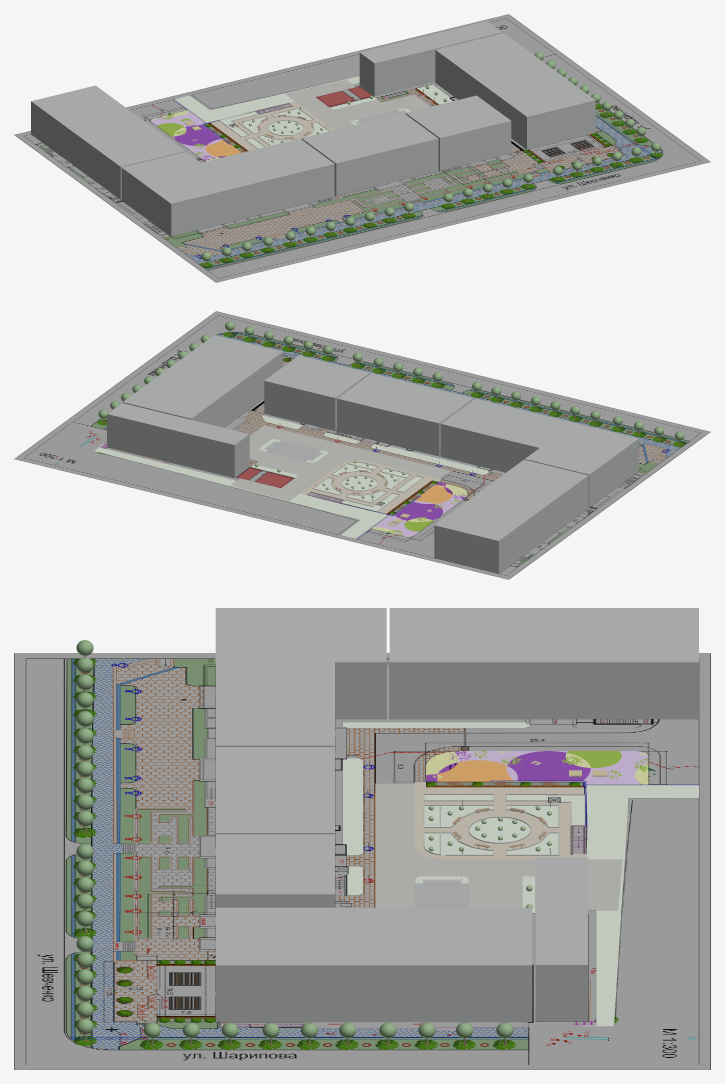
File: palladium_reconstruction_04.glb
The picture shows the model from 3 angles, top to bottom: view 1: azimuth 30°, elevation 25°; view 2: azimuth 150°, elevation 25°; view 3: azimuth 270°, elevation 25°; orthographic projection. The views are drawn at different scales.
Visible parts, largest first — view 1: REFERENCE_PDF_NOT_GEOMETRY, BUILDING_02_01_ENVELOPE_HEIGHT_8M_CONDITIONAL, BUILDING_06_01_ENVELOPE_HEIGHT_8M_CONDITIONAL, BUILDING_01_01_ENVELOPE_HEIGHT_8M_CONDITIONAL, BUILDING_03_01_ENVELOPE_HEIGHT_8M_CONDITIONAL, BUILDING_04_01_ENVELOPE_HEIGHT_8M_CONDITIONAL, BUILDING_05_01_ENVELOPE_HEIGHT_8M_CONDITIONAL, PDF_FILL_GREEN_FILL_MATERIAL_UNCONFIRMED, COURTYARD_PARTIAL_SURFACE_01_INFERRED_SEAM_CONDITIONAL, CENTRAL_PAVING_PART_01_CONDITIONAL, PDF_FILL_PLAY_LILAC_MATERIAL_UNCONFIRMED, PDF_FILL_PLAY_PURPLE_MATERIAL_UNCONFIRMED; view 2: REFERENCE_PDF_NOT_GEOMETRY, BUILDING_02_01_ENVELOPE_HEIGHT_8M_CONDITIONAL, BUILDING_01_01_ENVELOPE_HEIGHT_8M_CONDITIONAL, BUILDING_06_01_ENVELOPE_HEIGHT_8M_CONDITIONAL, BUILDING_03_01_ENVELOPE_HEIGHT_8M_CONDITIONAL, BUILDING_05_01_ENVELOPE_HEIGHT_8M_CONDITIONAL, PDF_FILL_GREEN_FILL_MATERIAL_UNCONFIRMED, COURTYARD_PARTIAL_SURFACE_01_INFERRED_SEAM_CONDITIONAL, BUILDING_04_01_ENVELOPE_HEIGHT_8M_CONDITIONAL, CENTRAL_PAVING_PART_01_CONDITIONAL, PDF_FILL_PLAY_PURPLE_MATERIAL_UNCONFIRMED, PDF_FILL_PLAY_LILAC_MATERIAL_UNCONFIRMED (+2 smaller); view 3: REFERENCE_PDF_NOT_GEOMETRY, BUILDING_06_01_ENVELOPE_HEIGHT_8M_CONDITIONAL, BUILDING_01_01_ENVELOPE_HEIGHT_8M_CONDITIONAL, BUILDING_02_01_ENVELOPE_HEIGHT_8M_CONDITIONAL, PDF_FILL_GREEN_FILL_MATERIAL_UNCONFIRMED, COURTYARD_PARTIAL_SURFACE_01_INFERRED_SEAM_CONDITIONAL, BUILDING_03_01_ENVELOPE_HEIGHT_8M_CONDITIONAL, BUILDING_04_01_ENVELOPE_HEIGHT_8M_CONDITIONAL, BUILDING_05_01_ENVELOPE_HEIGHT_8M_CONDITIONAL, CENTRAL_PAVING_PART_01_CONDITIONAL, PDF_FILL_PLAY_LILAC_MATERIAL_UNCONFIRMED, PDF_FILL_PLAY_PURPLE_MATERIAL_UNCONFIRMED (+4 smaller).
Boxes of the visible parts, box(x1,y1,x2,y2) form: REFERENCE_PDF_NOT_GEOMETRY: box(14, 14, 710, 282); BUILDING_02_01_ENVELOPE_HEIGHT_8M_CONDITIONAL: box(121, 138, 334, 236); BUILDING_06_01_ENVELOPE_HEIGHT_8M_CONDITIONAL: box(435, 33, 595, 149); BUILDING_01_01_ENVELOPE_HEIGHT_8M_CONDITIONAL: box(31, 85, 185, 199); BUILDING_03_01_ENVELOPE_HEIGHT_8M_CONDITIONAL: box(301, 113, 438, 196); BUILDING_04_01_ENVELOPE_HEIGHT_8M_CONDITIONAL: box(405, 95, 511, 170); BUILDING_05_01_ENVELOPE_HEIGHT_8M_CONDITIONAL: box(359, 21, 502, 96); PDF_FILL_GREEN_FILL_MATERIAL_UNCONFIRMED: box(174, 76, 452, 148); COURTYARD_PARTIAL_SURFACE_01_INFERRED_SEAM_CONDITIONAL: box(285, 80, 430, 129); CENTRAL_PAVING_PART_01_CONDITIONAL: box(210, 101, 333, 150); PDF_FILL_PLAY_LILAC_MATERIAL_UNCONFIRMED: box(151, 112, 221, 160); PDF_FILL_PLAY_PURPLE_MATERIAL_UNCONFIRMED: box(174, 125, 225, 160); REFERENCE_PDF_NOT_GEOMETRY: box(14, 311, 710, 579); BUILDING_02_01_ENVELOPE_HEIGHT_8M_CONDITIONAL: box(440, 398, 638, 507); BUILDING_01_01_ENVELOPE_HEIGHT_8M_CONDITIONAL: box(434, 459, 588, 573); BUILDING_06_01_ENVELOPE_HEIGHT_8M_CONDITIONAL: box(122, 335, 282, 427); BUILDING_03_01_ENVELOPE_HEIGHT_8M_CONDITIONAL: box(337, 373, 473, 456); BUILDING_05_01_ENVELOPE_HEIGHT_8M_CONDITIONAL: box(107, 403, 249, 477); PDF_FILL_GREEN_FILL_MATERIAL_UNCONFIRMED: box(94, 415, 488, 538); COURTYARD_PARTIAL_SURFACE_01_INFERRED_SEAM_CONDITIONAL: box(230, 425, 450, 500); BUILDING_04_01_ENVELOPE_HEIGHT_8M_CONDITIONAL: box(264, 355, 369, 430); CENTRAL_PAVING_PART_01_CONDITIONAL: box(300, 460, 441, 513); PDF_FILL_PLAY_PURPLE_MATERIAL_UNCONFIRMED: box(395, 482, 465, 520); PDF_FILL_PLAY_LILAC_MATERIAL_UNCONFIRMED: box(374, 494, 466, 536); REFERENCE_PDF_NOT_GEOMETRY: box(14, 653, 710, 1069); BUILDING_06_01_ENVELOPE_HEIGHT_8M_CONDITIONAL: box(215, 907, 531, 1021); BUILDING_01_01_ENVELOPE_HEIGHT_8M_CONDITIONAL: box(389, 608, 698, 718); BUILDING_02_01_ENVELOPE_HEIGHT_8M_CONDITIONAL: box(215, 608, 386, 746); PDF_FILL_GREEN_FILL_MATERIAL_UNCONFIRMED: box(342, 722, 698, 1026); COURTYARD_PARTIAL_SURFACE_01_INFERRED_SEAM_CONDITIONAL: box(375, 783, 622, 913); BUILDING_03_01_ENVELOPE_HEIGHT_8M_CONDITIONAL: box(215, 747, 334, 834); BUILDING_04_01_ENVELOPE_HEIGHT_8M_CONDITIONAL: box(215, 834, 334, 907); BUILDING_05_01_ENVELOPE_HEIGHT_8M_CONDITIONAL: box(535, 857, 587, 1021); CENTRAL_PAVING_PART_01_CONDITIONAL: box(414, 782, 586, 859); PDF_FILL_PLAY_LILAC_MATERIAL_UNCONFIRMED: box(454, 751, 648, 784); PDF_FILL_PLAY_PURPLE_MATERIAL_UNCONFIRMED: box(426, 751, 590, 781).
Bounding box in the file's own units: 126 × 8.02 × 89.15.
Materials: 1 (1 with a texture image).
